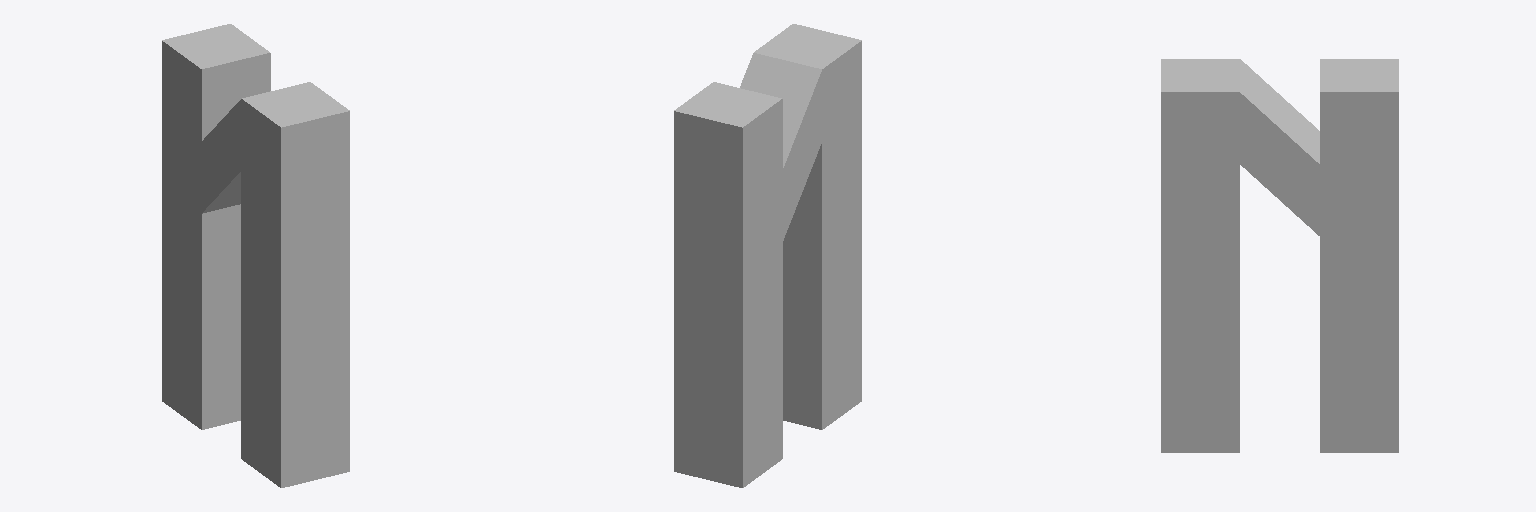
The model's file is character_n.obj.
3 views of the same model, side by side, from view 1: azimuth 30°, elevation 25°; view 2: azimuth 150°, elevation 25°; view 3: azimuth 270°, elevation 25° (orthographic).
Parts seen in each view (by area): view 1: Cube.001; view 2: Cube.001; view 3: Cube.001.
Boxes of the visible parts, x1,y1,x2,y2 form: Cube.001: [162, 24, 349, 487]; Cube.001: [674, 24, 861, 487]; Cube.001: [1161, 59, 1398, 452].
Size of the model in its own units: 6 by 30 by 18.